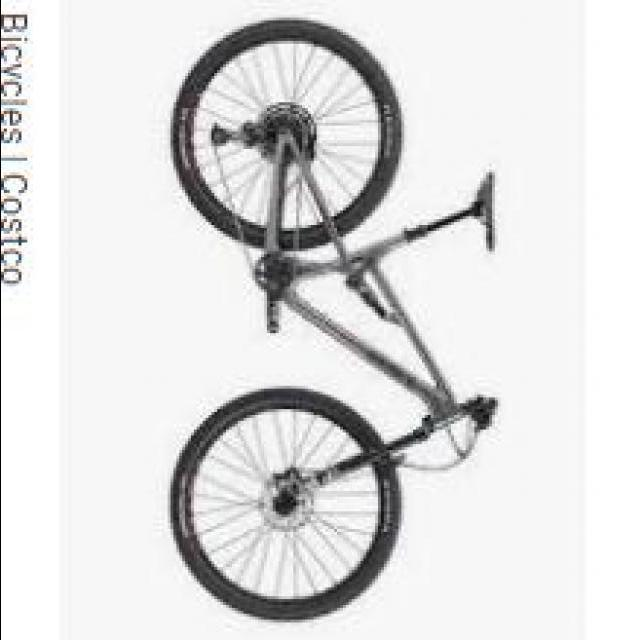bicycle: (153, 16, 515, 621)
